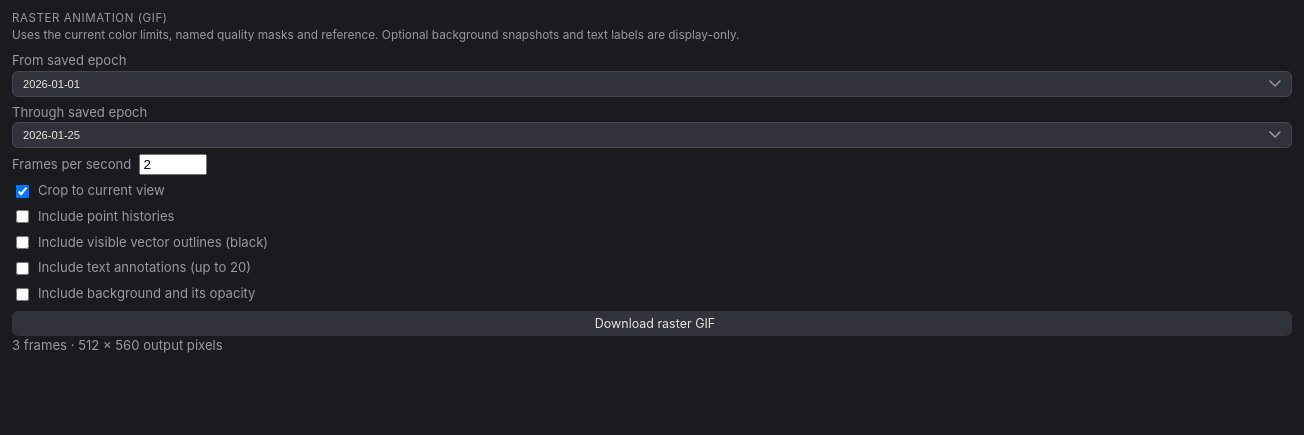
Scenario: vector outline limits › names server-tiled vector layers as not included
The width and height of the screenshot is (1304, 435).
Expected: the button "Download raster GIF" is enabled, x1=12 y1=311 x2=1292 y2=336
Click the checkbox named "Include vector outlines in GIF".
click(22, 243)  # box x1=16 y1=236 x2=29 y2=249
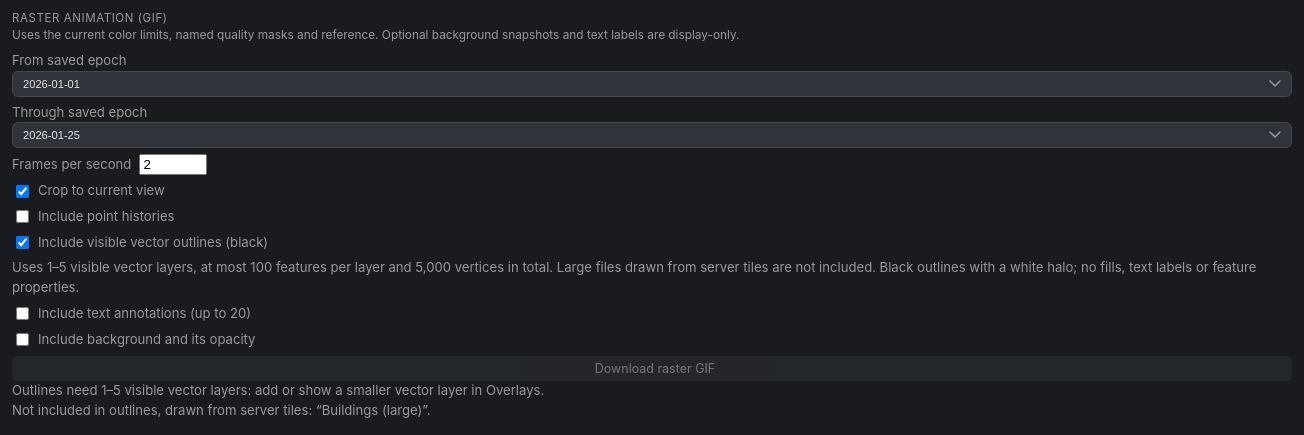
Expected: the text "Not included in outlines, drawn from server tiles: “Buildings (large)”." is shown, x1=12 y1=402 x2=430 y2=418
Expected: the text "add or show a smaller vector layer" is shown, x1=255 y1=382 x2=540 y2=398
Expected: the button "Download raster GIF" is disabled, x1=12 y1=356 x2=1292 y2=381
